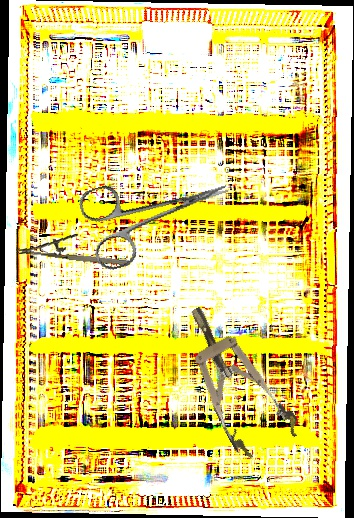Iris Scissors: (76, 151, 241, 274)
Needle Holder: (15, 226, 132, 269)
Speculum: (166, 291, 304, 466)
